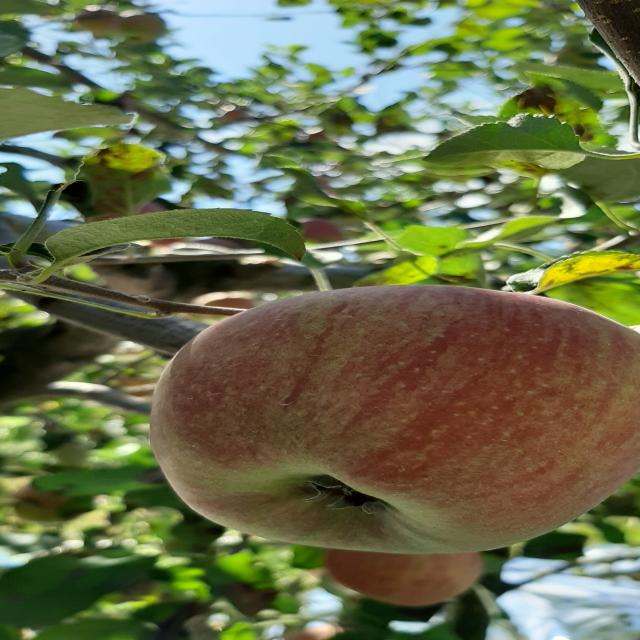fresh: (146, 281, 640, 562)
